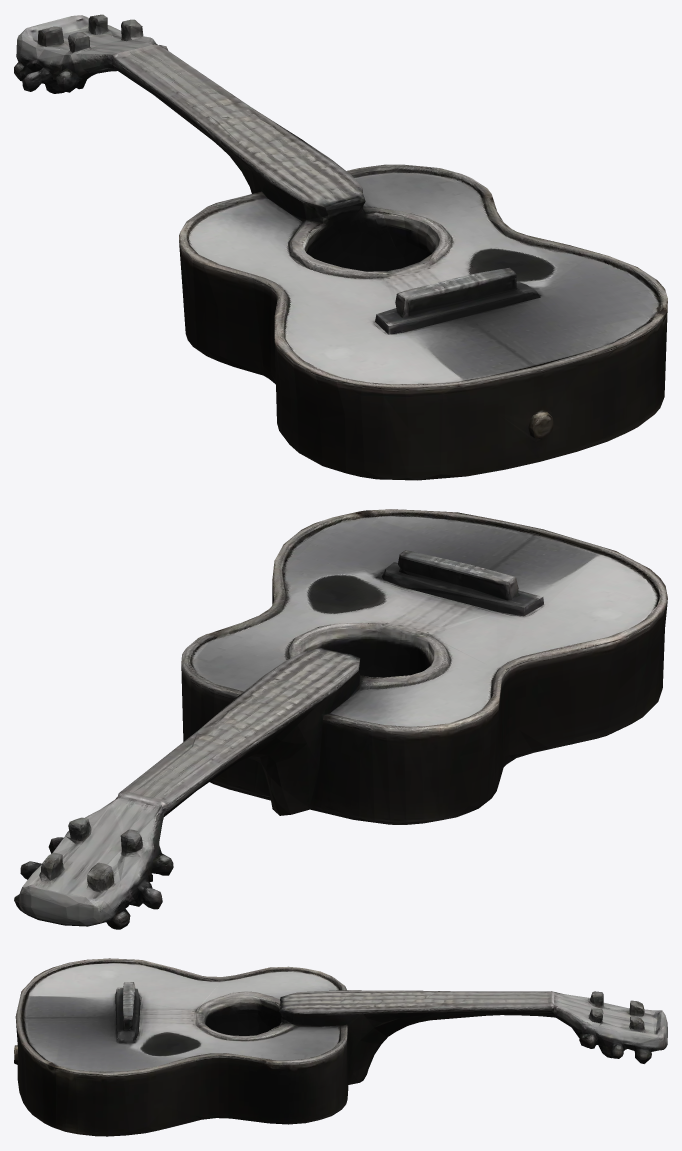
File: guitar.glb
3 views of the same model, one above another, from view 1: azimuth 30°, elevation 25°; view 2: azimuth 150°, elevation 25°; view 3: azimuth 270°, elevation 25° (orthographic). The views are drawn at different scales.
Visible parts, largest first — view 1: world; view 2: world; view 3: world.
Boxes of the visible parts, x1=… form: world: x1=14, y1=14, x2=667, y2=480; world: x1=14, y1=509, x2=667, y2=929; world: x1=14, y1=958, x2=667, y2=1136.
Bounding box in the file's own units: 0.4191 × 0.1395 × 0.9981.
1 material, 1 textured.
